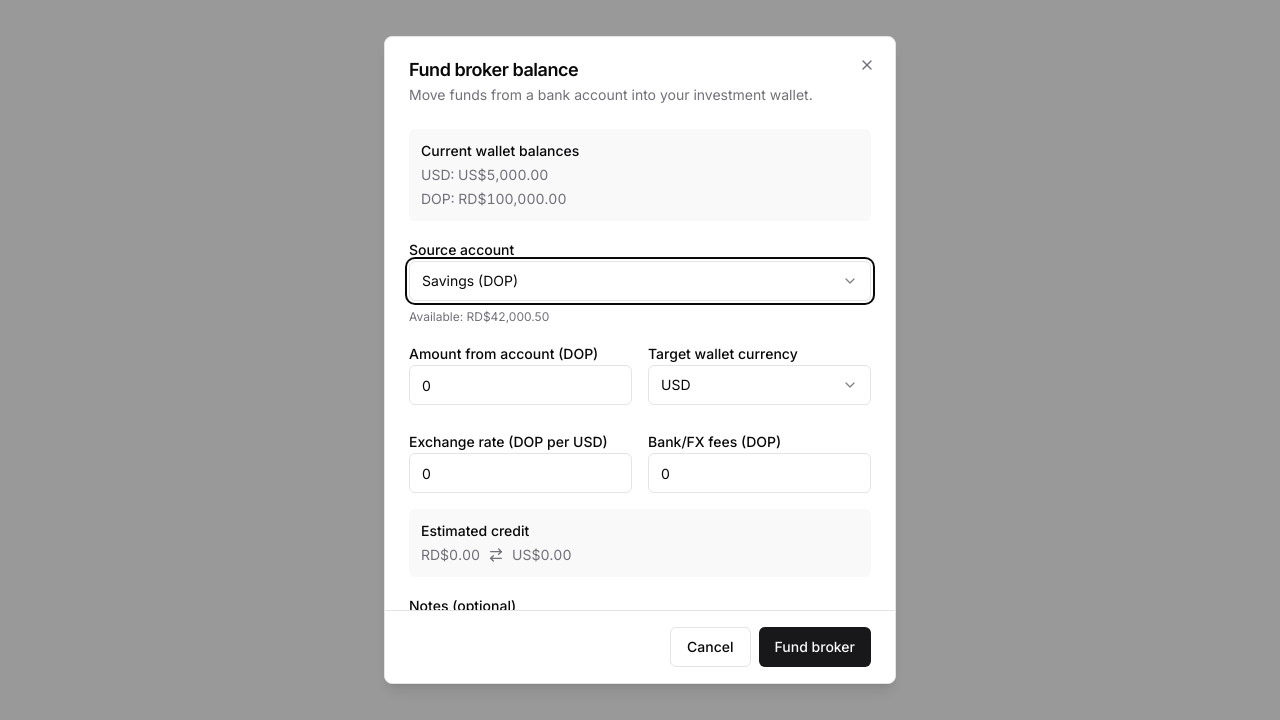
InvestmentFundingModal › shows a translated error with the backend detail when funding fails
Replace the text in the field labelled "Amount from account (DOP)" with "1000" at (520, 385), box [409,365,632,405]
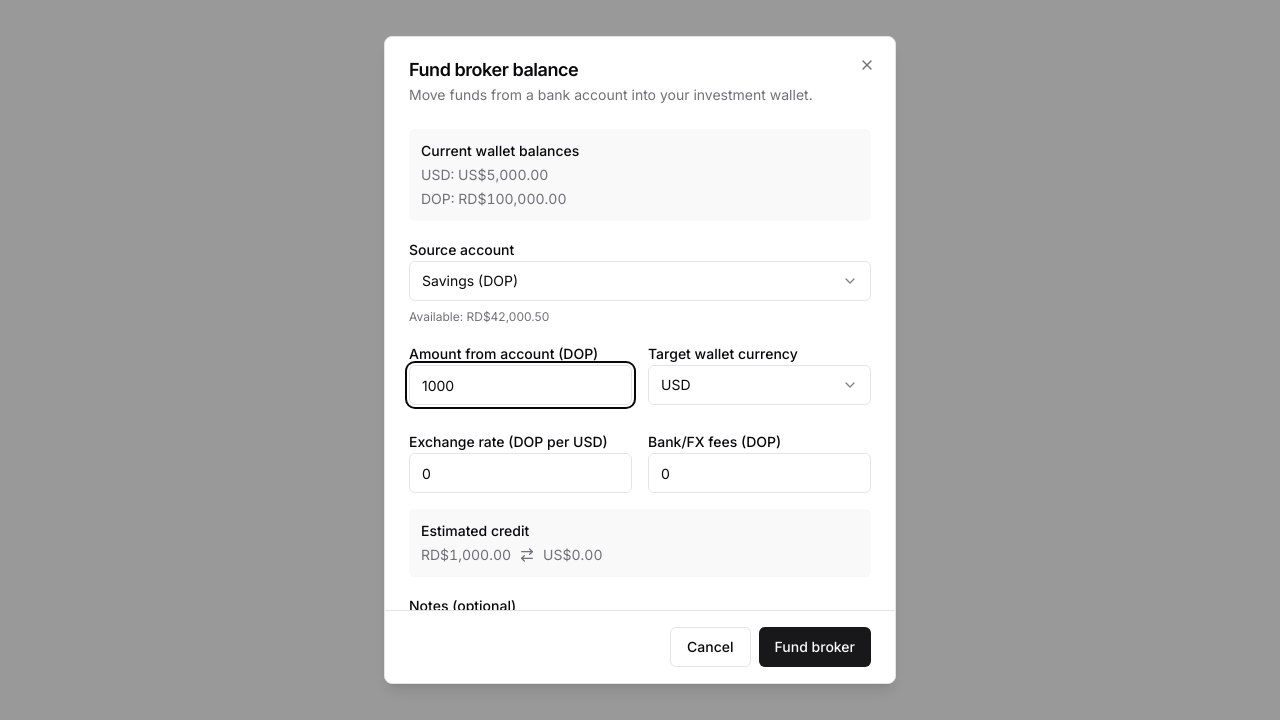
Replace the text in the field labelled "Exchange rate (DOP per USD)" with "58" at (520, 473), box [409,453,632,493]
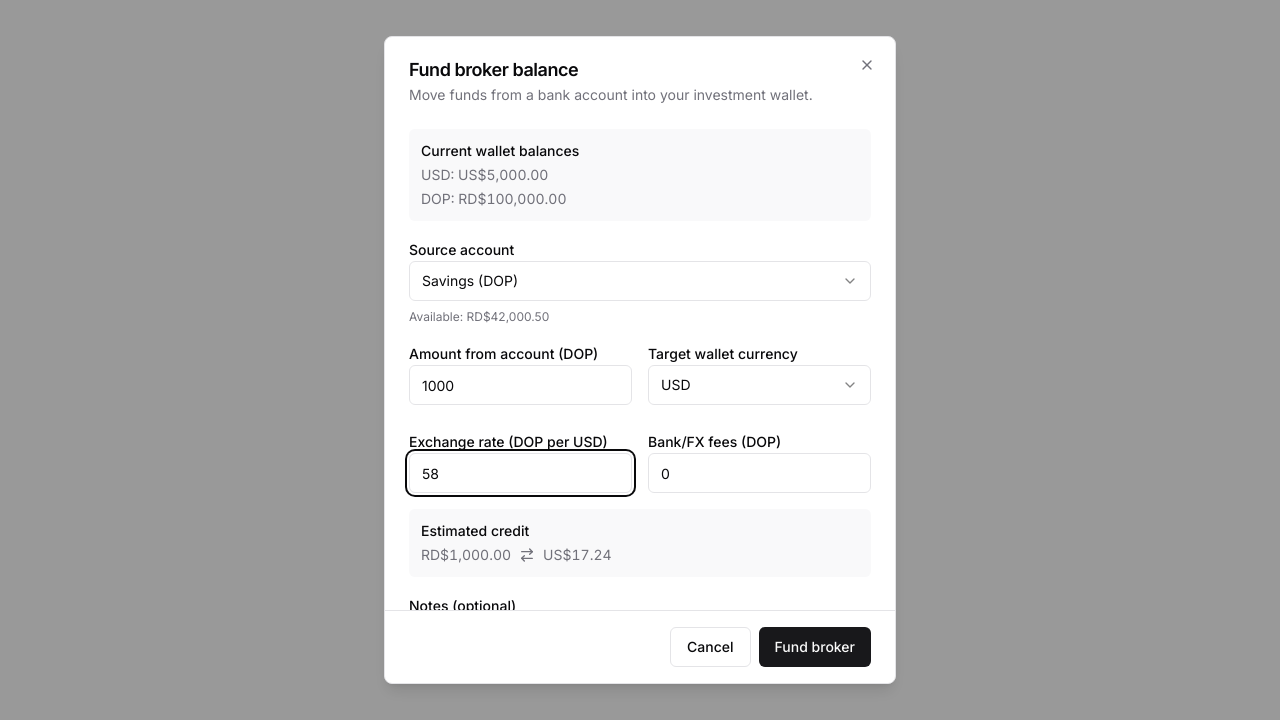
Click the button "Fund broker" at (815, 647), box [759,627,871,667]
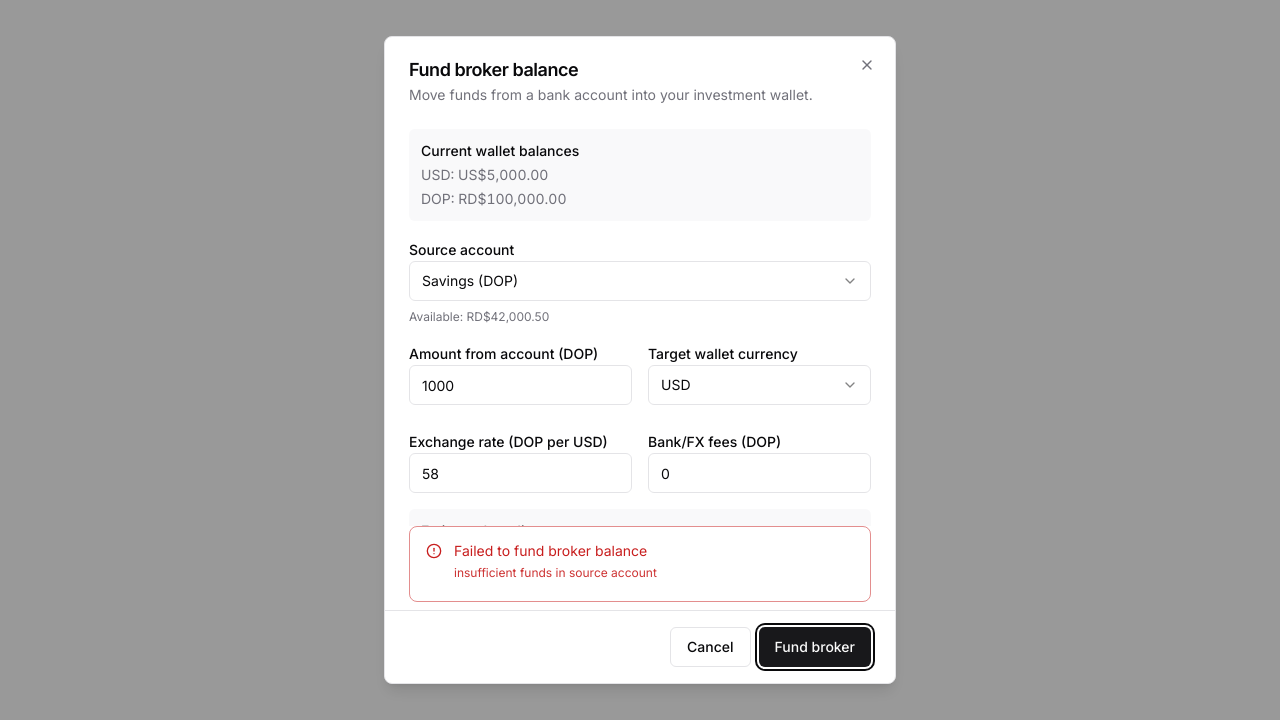
Expected: the text "Failed to fund broker balance" is shown, [454,542,647,559]
Expected: the text "insufficient funds in source account" is shown, [454,564,657,580]
